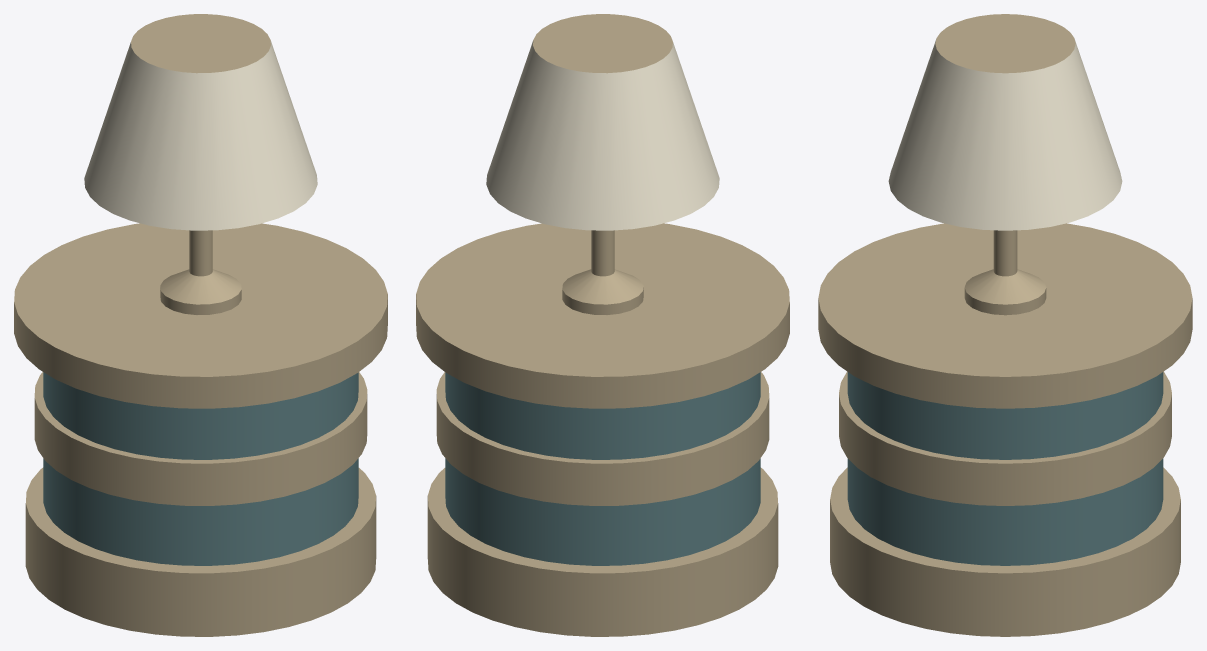
The model's file is KC32__AD_Int_Table_Drum_Gold.glb.
The picture shows the model from 3 angles, left to right: view 1: azimuth 30°, elevation 25°; view 2: azimuth 150°, elevation 25°; view 3: azimuth 270°, elevation 25°; orthographic projection.
Visible parts, largest first — view 1: KC32_BRONZE__AD_Int_Table_Drum_Gold, KC32_CORPS__AD_Int_Table_Drum_Gold, KC32_LUMIERE__AD_Int_Table_Drum_Gold; view 2: KC32_BRONZE__AD_Int_Table_Drum_Gold, KC32_CORPS__AD_Int_Table_Drum_Gold, KC32_LUMIERE__AD_Int_Table_Drum_Gold; view 3: KC32_BRONZE__AD_Int_Table_Drum_Gold, KC32_CORPS__AD_Int_Table_Drum_Gold, KC32_LUMIERE__AD_Int_Table_Drum_Gold.
Boxes of the visible parts, <box> form: KC32_BRONZE__AD_Int_Table_Drum_Gold: <box>14,14,387,636</box>; KC32_CORPS__AD_Int_Table_Drum_Gold: <box>43,372,358,565</box>; KC32_LUMIERE__AD_Int_Table_Drum_Gold: <box>84,40,317,230</box>; KC32_BRONZE__AD_Int_Table_Drum_Gold: <box>416,14,789,636</box>; KC32_CORPS__AD_Int_Table_Drum_Gold: <box>445,372,760,565</box>; KC32_LUMIERE__AD_Int_Table_Drum_Gold: <box>486,40,719,230</box>; KC32_BRONZE__AD_Int_Table_Drum_Gold: <box>818,14,1192,636</box>; KC32_CORPS__AD_Int_Table_Drum_Gold: <box>847,372,1163,565</box>; KC32_LUMIERE__AD_Int_Table_Drum_Gold: <box>888,39,1122,230</box>.
Size of the model in its own units: 0.64 by 0.98 by 0.64.
